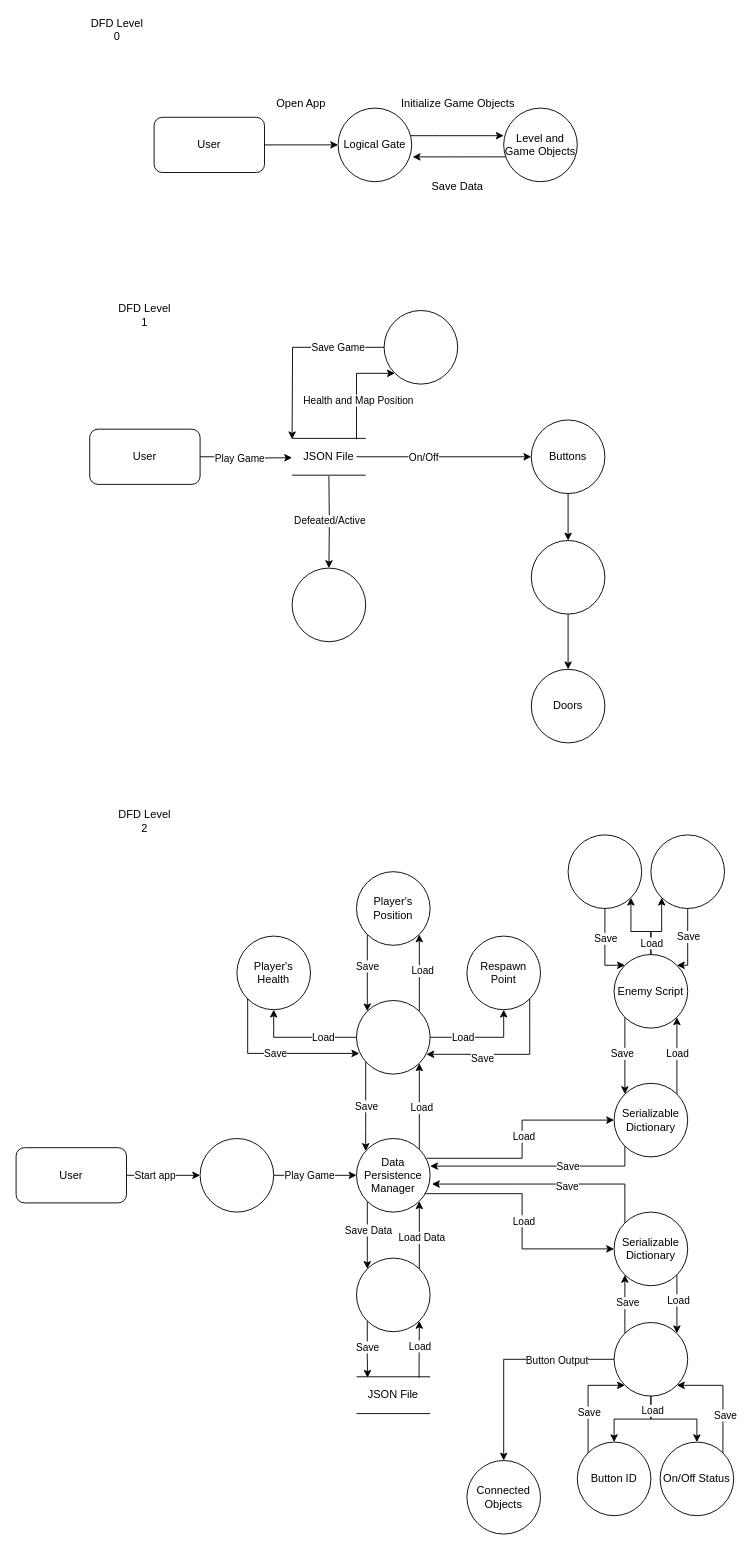
Some shapes in this 753 by 1550 pixel diagram are drawn without their labels. The shapes that lost their labels are listed below. From the top down, each one's centre as x and y in pixels, then its label:
point (420, 347): Character
point (567, 577): Gates
point (328, 604): Enemies
point (604, 871): Enemy ID
point (687, 871): Dead/Alive Status
point (393, 1037): Player Script
point (236, 1175): MainMenu
point (393, 1294): File Data Handler
point (650, 1359): Button Script
